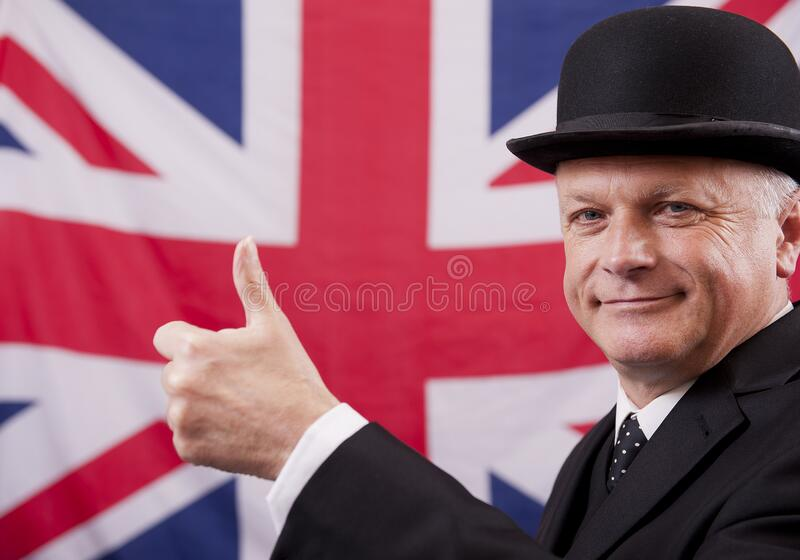thumbsUp: (135, 225, 357, 495)
